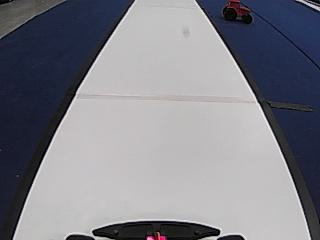Tracktor: (223, 0, 254, 26)
